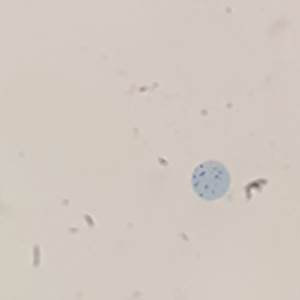aggregate reticulocyte: (190, 160, 233, 203)
